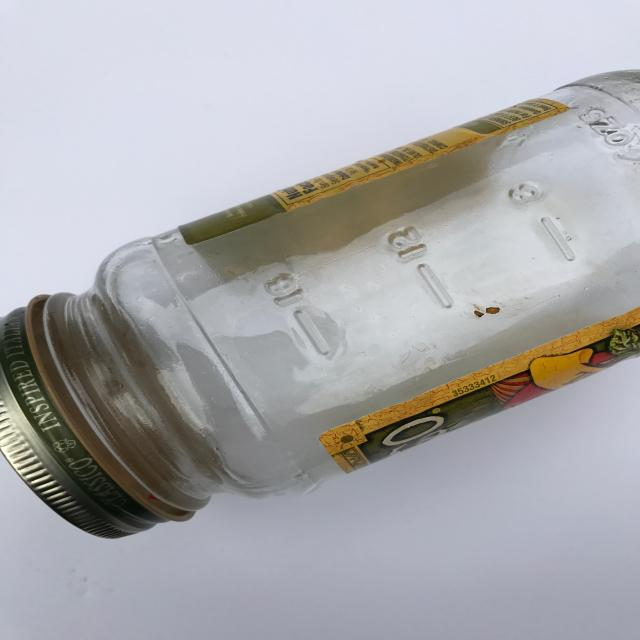glass: (1, 70, 640, 540)
